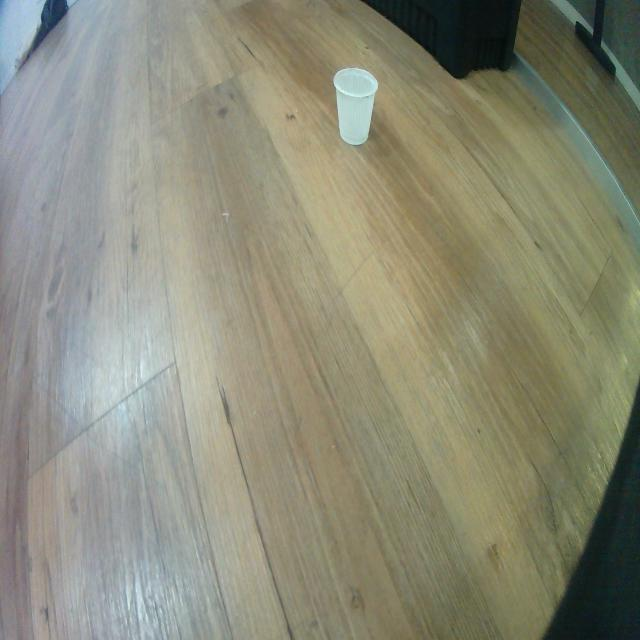planta: (333, 67, 379, 146)
